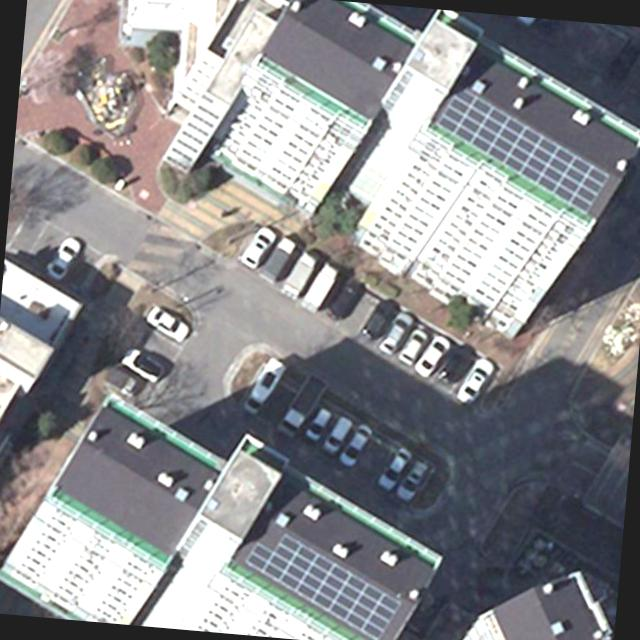solar: (424, 82, 618, 224), (232, 525, 410, 640)
